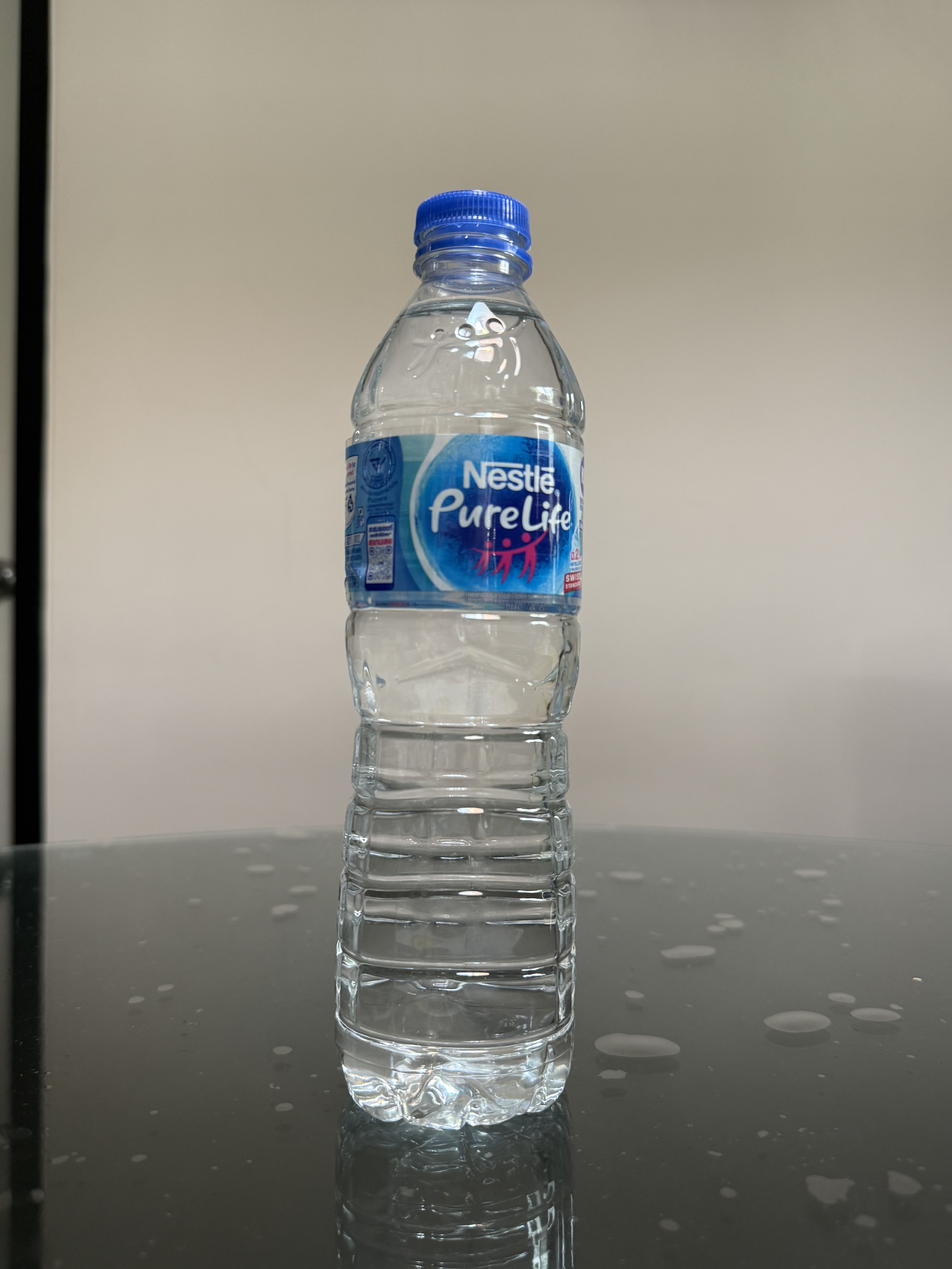half_cap: (410, 185, 534, 280)
